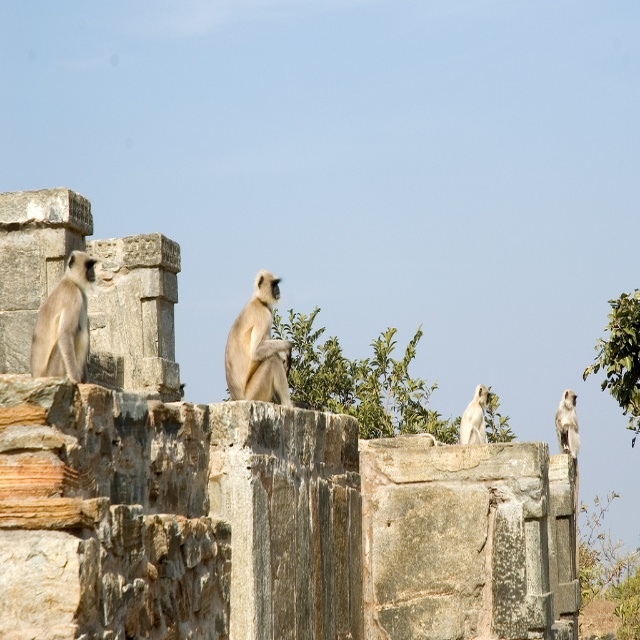Monkey: (218, 262, 298, 419), (29, 250, 110, 386), (554, 386, 579, 582), (456, 379, 495, 448)
